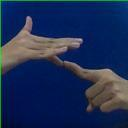hand: (1, 15, 83, 75), (64, 59, 128, 115)
